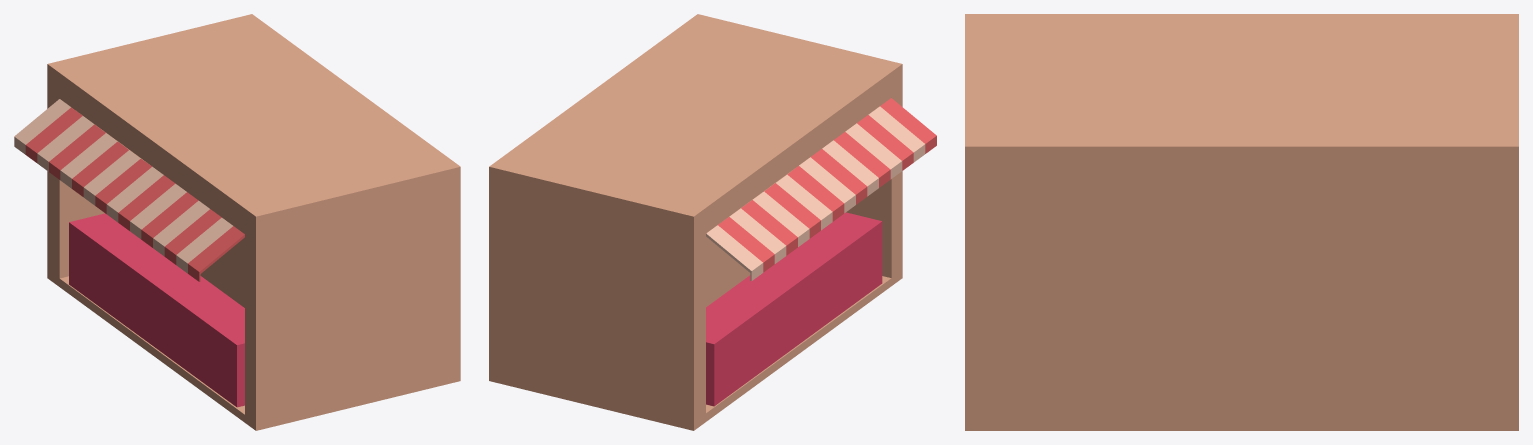
File: fastfoodStand.fbx
3 views of the same model, side by side, from view 1: azimuth 30°, elevation 25°; view 2: azimuth 150°, elevation 25°; view 3: azimuth 270°, elevation 25° (orthographic). The views are drawn at different scales.
Parts seen in each view (by area): view 1: fastfoodStandBody, Counter; view 2: fastfoodStandBody, Counter; view 3: fastfoodStandBody.
Boxes of the visible parts, x1,y1,x2,y2 form: fastfoodStandBody: (14,14,460,430); Counter: (69,213,244,407); fastfoodStandBody: (489,14,936,430); Counter: (706,212,882,406); fastfoodStandBody: (965,14,1518,430).
Size of the model in its own units: 6.37 by 5.22 by 9.21.
